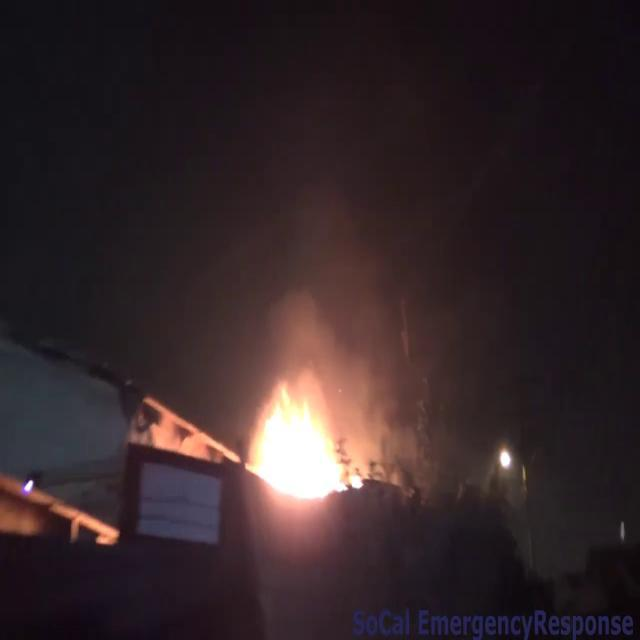Fire: (240, 372, 356, 513)
Smoke: (162, 61, 460, 398)
